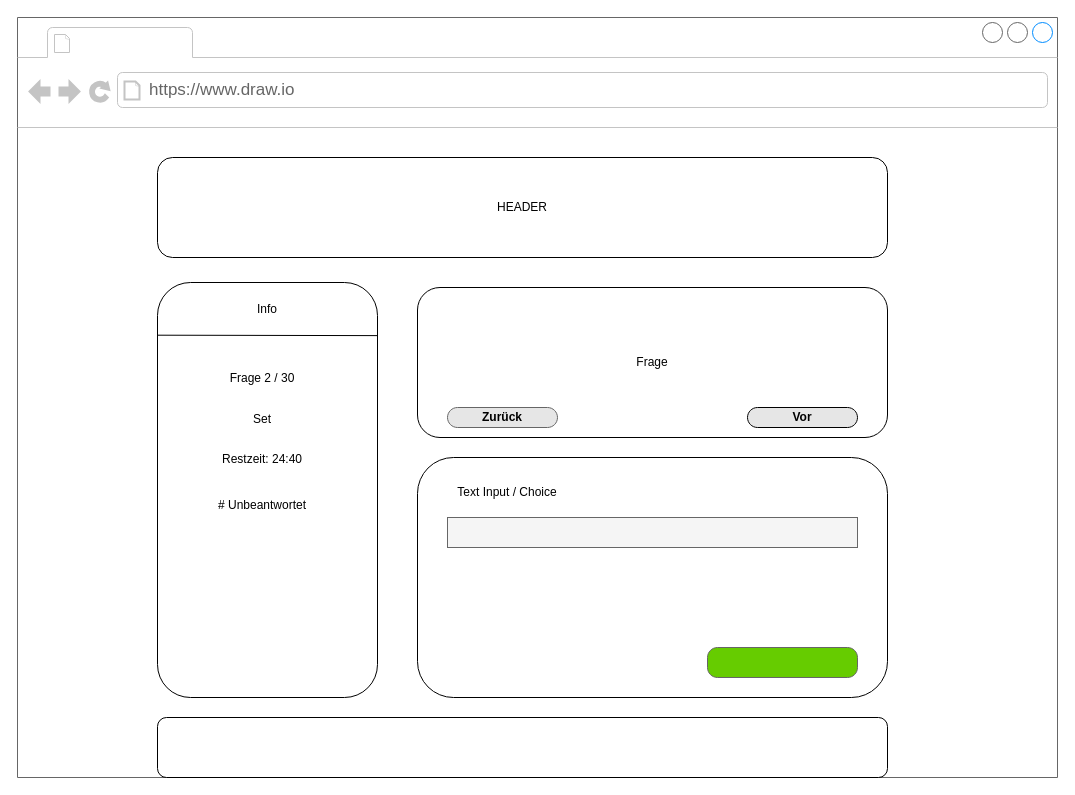
Image size: 1075x795. Some labels were removed from this diagram. The shapes that lost their labels are listed below. From the top down, each one's box as (x1, y1, x2, y2) in pixels, then its label:
(76, 28, 188, 56): Page 1
(706, 646, 858, 678): Beantworten
(156, 716, 888, 778): FOOTER
